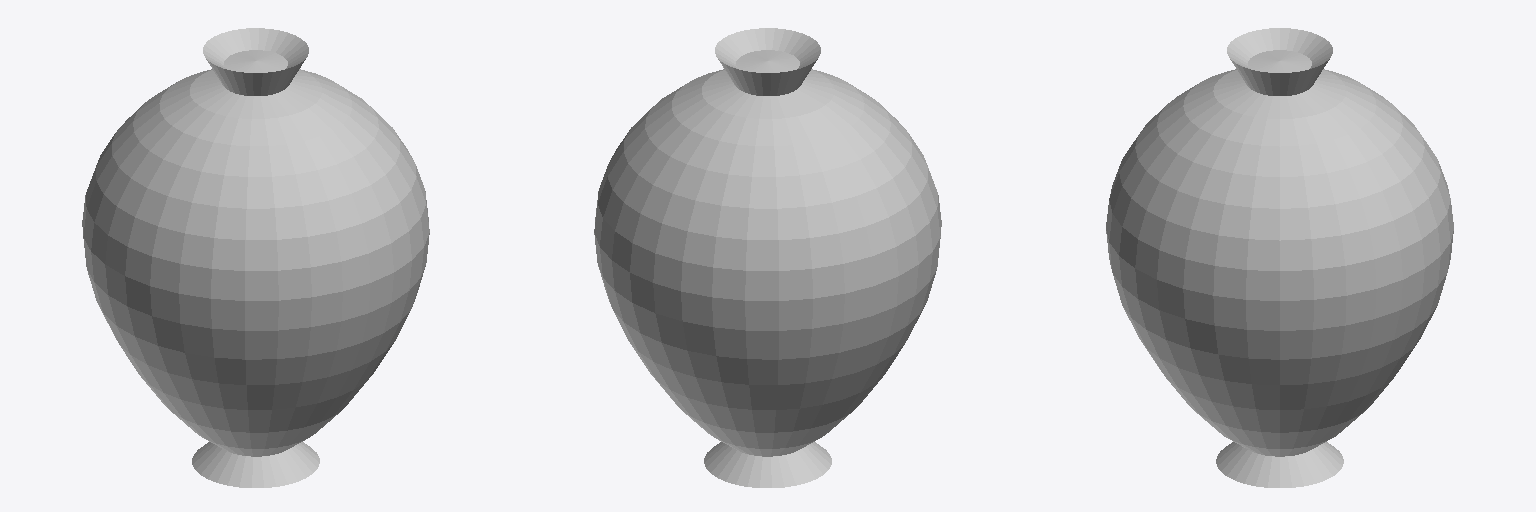
The model's file is alvo1.obj.
The picture shows the model from 3 angles: view 1: azimuth 30°, elevation 25°; view 2: azimuth 150°, elevation 25°; view 3: azimuth 270°, elevation 25°; orthographic projection.
Visible parts, largest first — view 1: Sphere_Sphere.001; view 2: Sphere_Sphere.001; view 3: Sphere_Sphere.001.
Boxes of the visible parts, x1=… form: Sphere_Sphere.001: x1=82, y1=28, x2=429, y2=487; Sphere_Sphere.001: x1=594, y1=28, x2=941, y2=487; Sphere_Sphere.001: x1=1106, y1=28, x2=1453, y2=487.
Bounding box in the file's own units: 2 × 2.6 × 2.